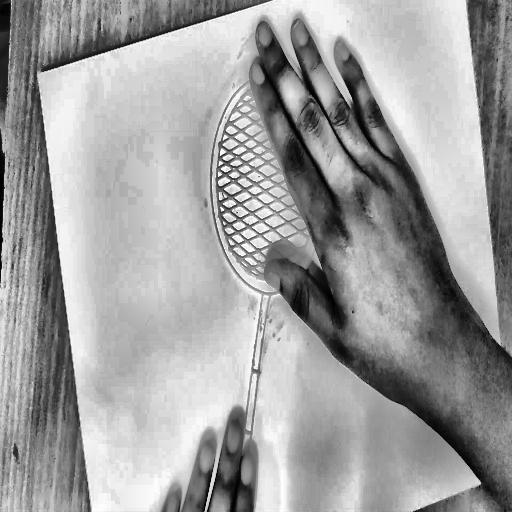badminton: (133, 14, 443, 512)
bottom_right: (506, 460, 512, 471)
top_left: (34, 71, 41, 80)
